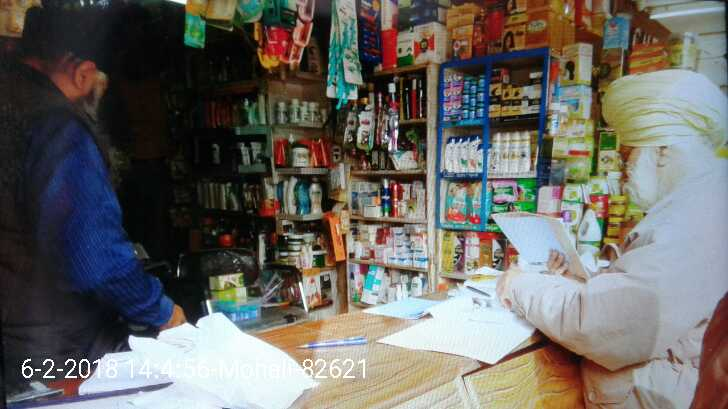beauty: (519, 128, 532, 176), (489, 82, 501, 124), (490, 131, 500, 180), (509, 134, 519, 175), (473, 140, 484, 175), (500, 132, 508, 179), (513, 88, 521, 119), (503, 88, 511, 116)
pharmacy: (442, 71, 484, 120), (441, 181, 465, 223), (462, 183, 486, 224), (488, 179, 516, 204)
